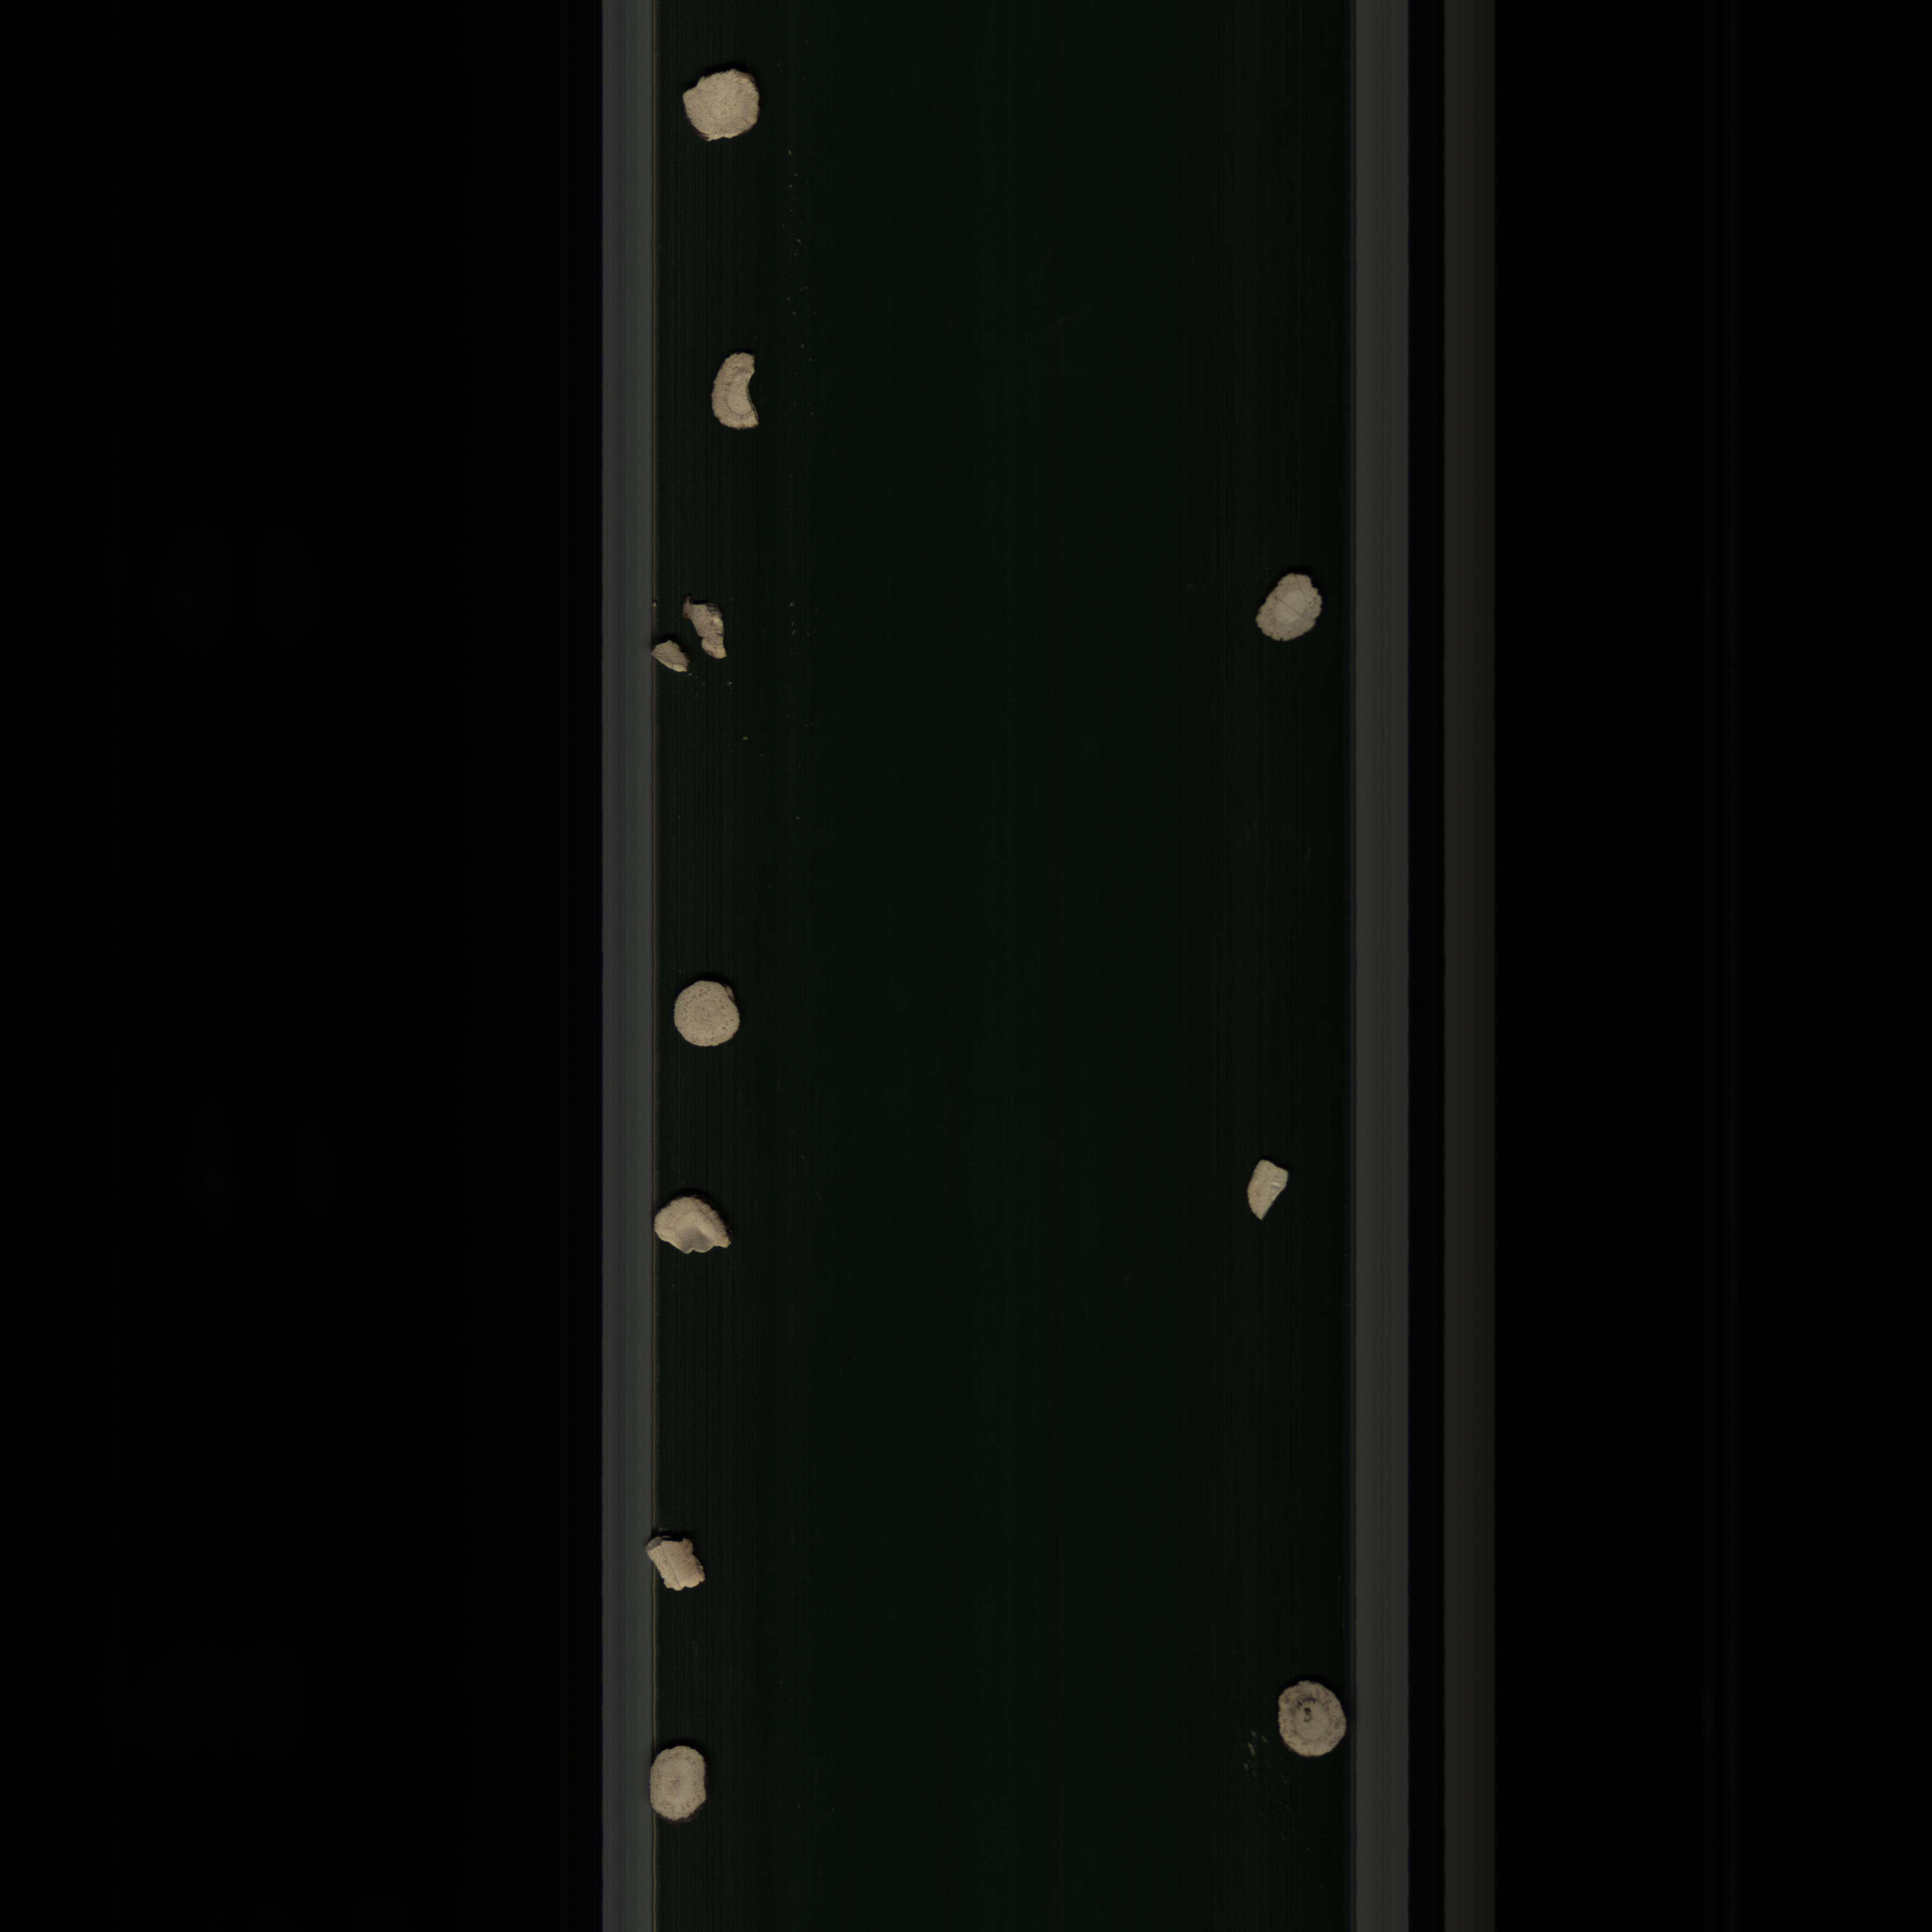debris: (676, 69, 773, 147), (1253, 552, 1325, 653), (651, 1194, 747, 1263), (633, 1529, 722, 1603), (708, 345, 773, 444), (679, 591, 745, 671), (1240, 1141, 1293, 1235), (653, 630, 699, 690)
hole: (1267, 1674, 1353, 1769)
